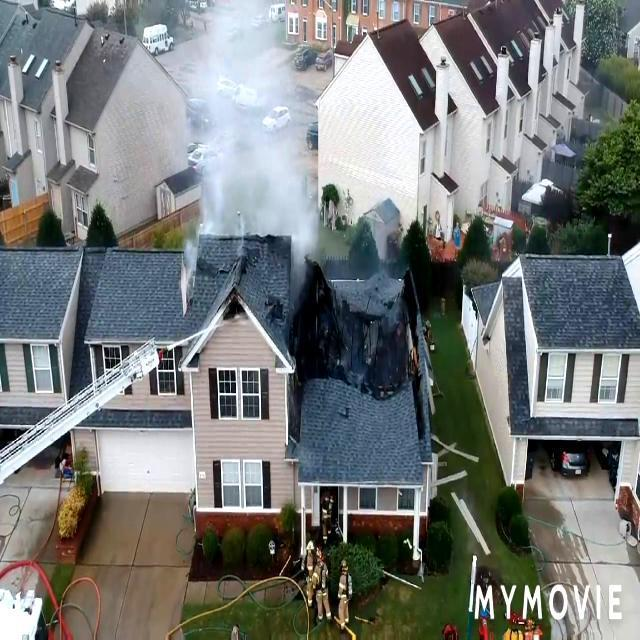Smoke: (183, 0, 324, 276)
